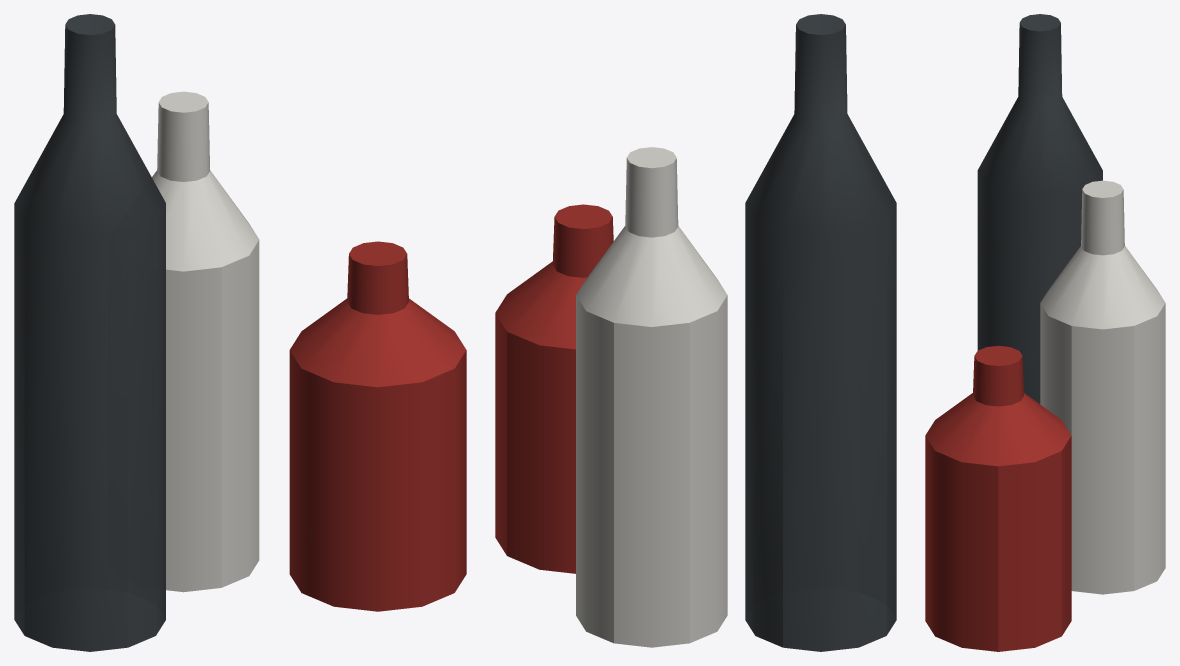
Rendered from prop_bottles.glb.
3 views of the same model, side by side, from view 1: azimuth 30°, elevation 25°; view 2: azimuth 150°, elevation 25°; view 3: azimuth 270°, elevation 25° (orthographic). The views are drawn at different scales.
Parts seen in each view (by area): view 1: Bottles; view 2: Bottles; view 3: Bottles.
Part boxes in pixels (bbox=[...]): Bottles: bbox=[14, 14, 466, 651]; Bottles: bbox=[495, 14, 896, 651]; Bottles: bbox=[925, 14, 1165, 651].
Size of the model in its own units: 0.185 by 0.26 by 0.115.
